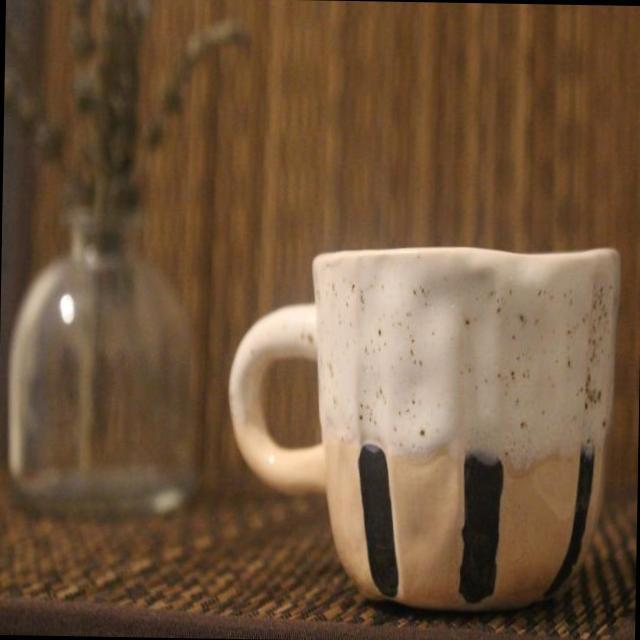taza: (226, 251, 630, 609)
